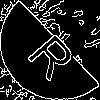R: (25, 25, 86, 83)
